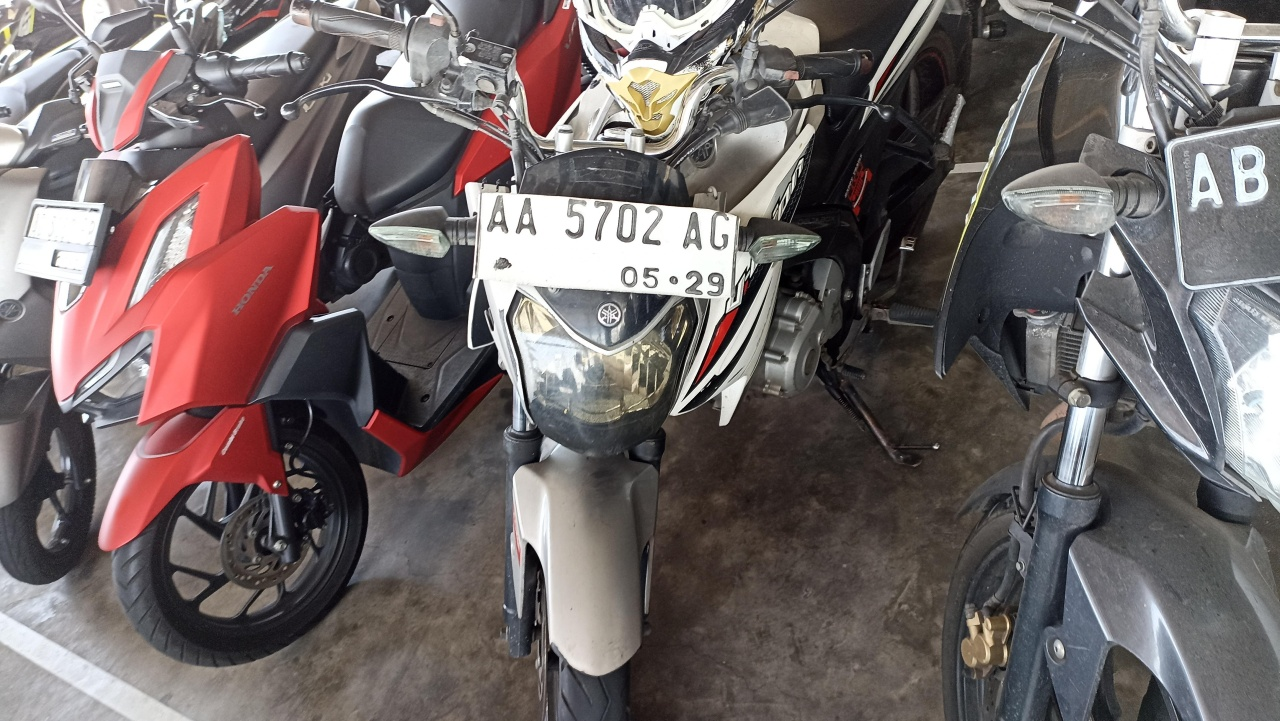plate: (474, 192, 739, 298)
